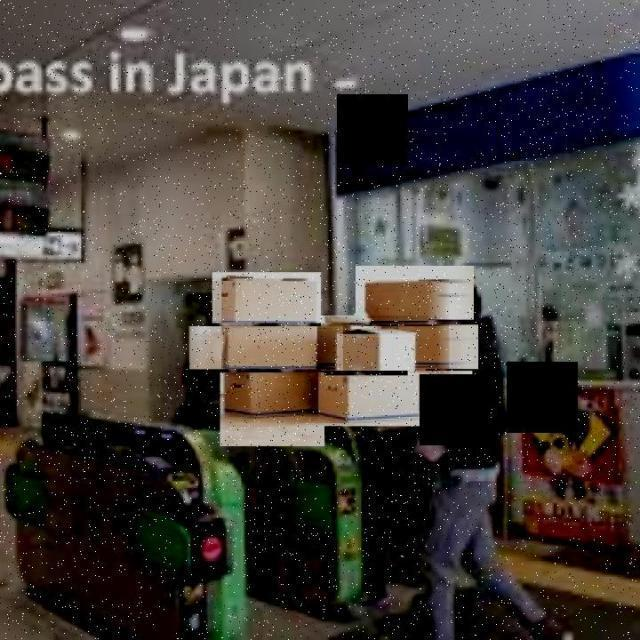box: (218, 372, 328, 448), (188, 326, 344, 371), (354, 266, 476, 323), (319, 316, 429, 372), (324, 375, 438, 428), (212, 272, 322, 326), (398, 324, 480, 370), (407, 371, 475, 418)
